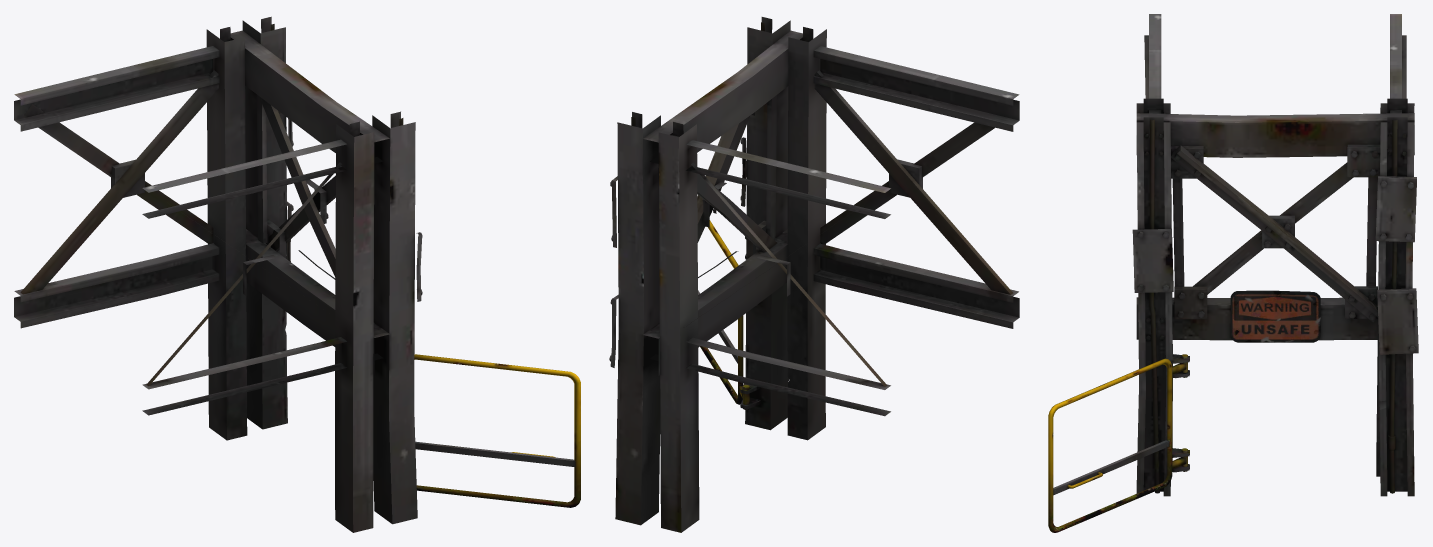
3 renders of one model, left to right at view 1: azimuth 30°, elevation 25°; view 2: azimuth 150°, elevation 25°; view 3: azimuth 270°, elevation 25°, orthographic. The views are drawn at different scales.
Visible parts, largest first — view 1: body0_model0_lod0_mesh0; view 2: body0_model0_lod0_mesh0; view 3: body0_model0_lod0_mesh0.
Boxes of the visible parts, <box> form: body0_model0_lod0_mesh0: <box>14,16,580,532</box>; body0_model0_lod0_mesh0: <box>609,17,1019,532</box>; body0_model0_lod0_mesh0: <box>1048,14,1418,532</box>.
Size of the model in its own units: 689 by 688 by 619.
Materials: 1 (1 with a texture image).
